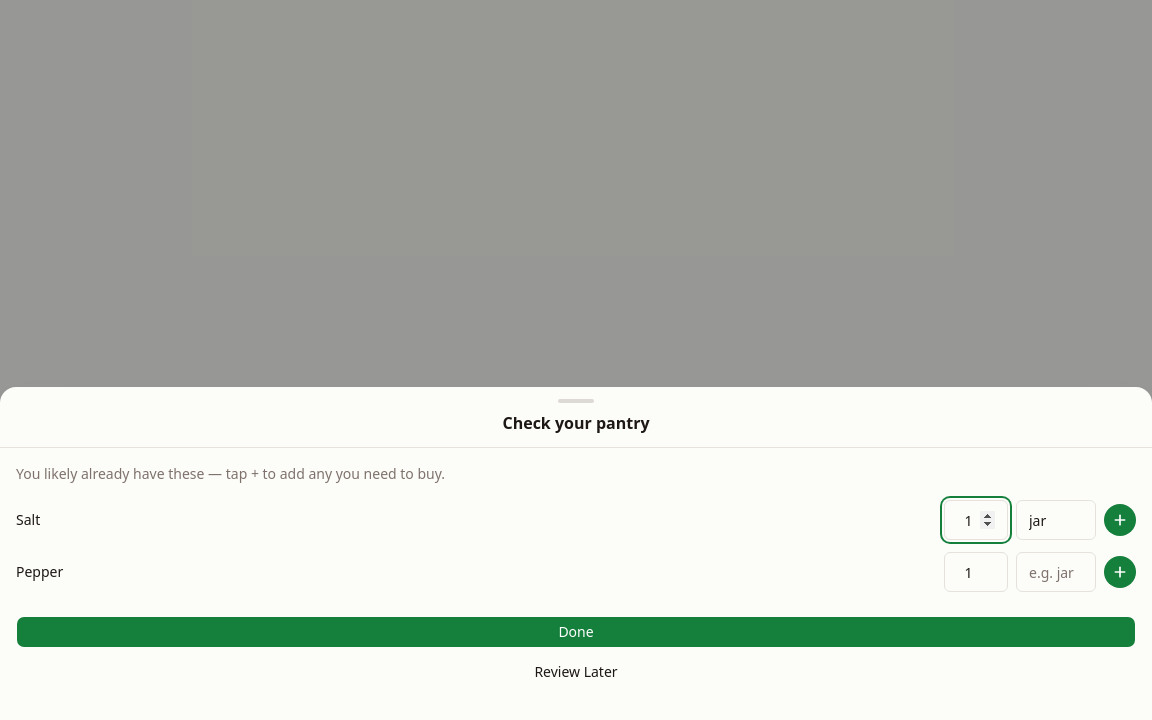
StapleCheckinSheet › removes item from list after adding
The image size is (1152, 720).
Expected: the text "Salt" is shown, [16, 510, 40, 529]
Click the button named "Add Salt". click: x=1120, y=520
box: [1104, 504, 1136, 536]
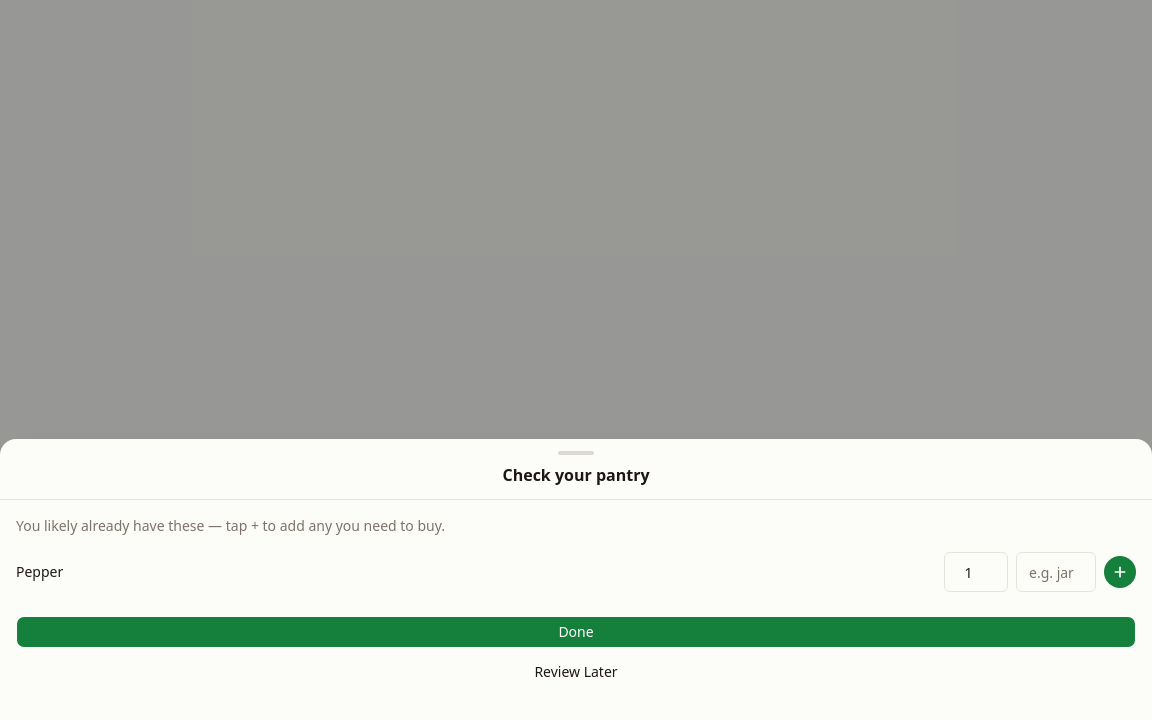
Result: the text "Salt" is gone
